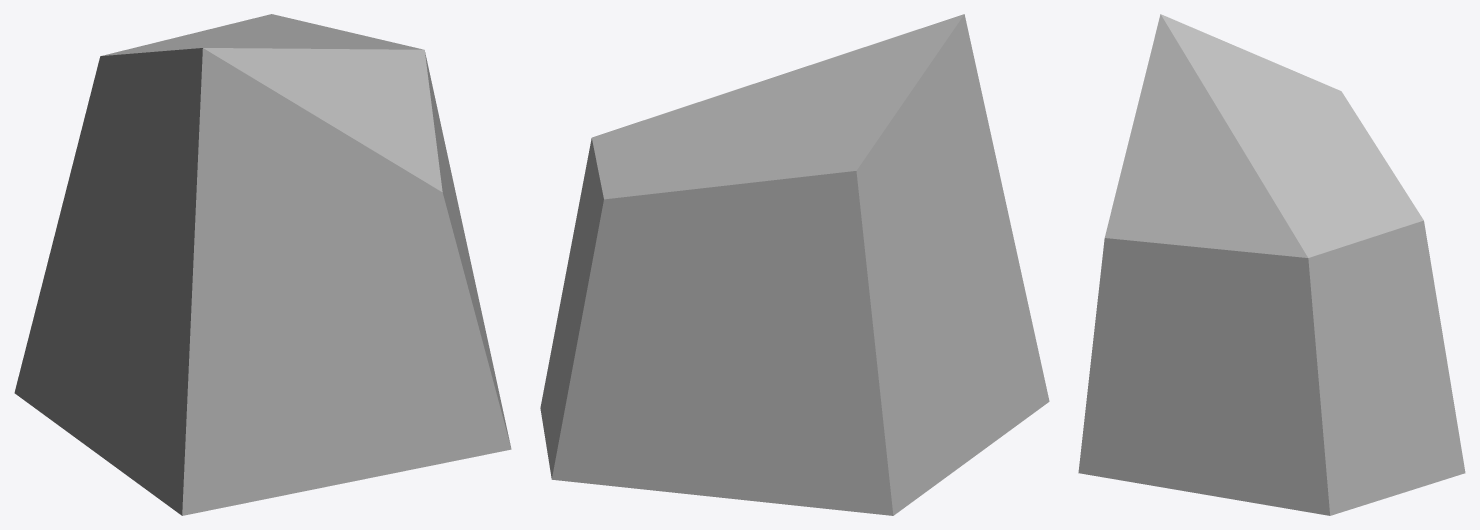
The model's file is rock_2.fbx.
The picture shows the model from 3 angles, left to right: view 1: azimuth 30°, elevation 25°; view 2: azimuth 150°, elevation 25°; view 3: azimuth 270°, elevation 25°; orthographic projection. The views are drawn at different scales.
Parts seen in each view (by area): view 1: rock_2; view 2: rock_2; view 3: rock_2.
Boxes of the visible parts, left/top/right/bottom form: rock_2: left=14, top=14, right=511, bottom=515; rock_2: left=540, top=14, right=1049, bottom=515; rock_2: left=1078, top=14, right=1465, bottom=515.
Size of the model in its own units: 498 by 506 by 494.
